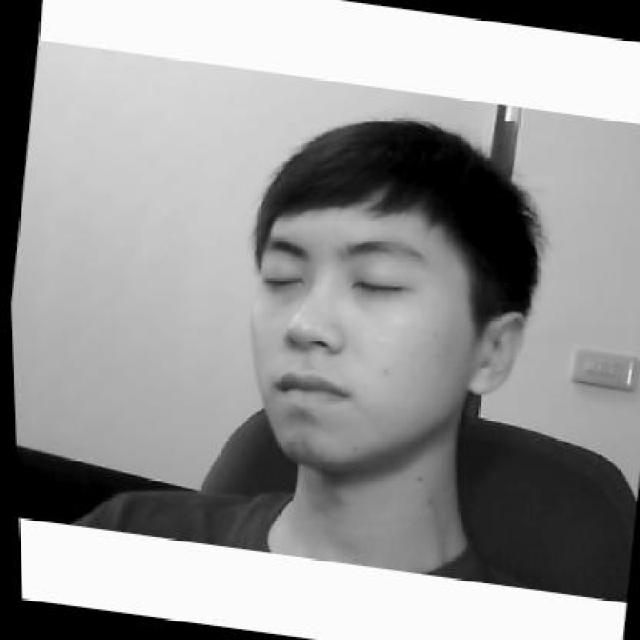inattentif: (218, 96, 557, 492)
